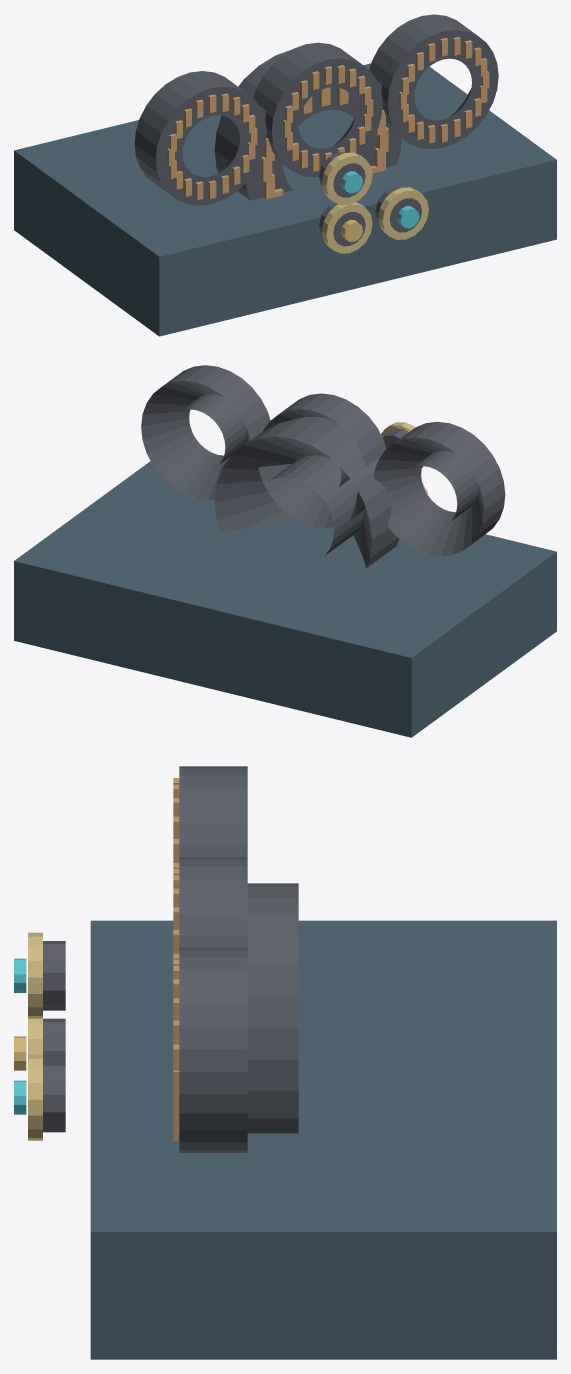
Rendered from 18_L82_CommonModeChokeModule.glb.
3 renders of one model, top to bottom at view 1: azimuth 30°, elevation 25°; view 2: azimuth 150°, elevation 25°; view 3: azimuth 270°, elevation 25°, orthographic. The views are drawn at different scales.
Visible parts, largest first — view 1: CommonModeChokeModule_Node_0000, CommonModeChokeModule_Node_0001, CommonModeChokeModule_Node_0043, CommonModeChokeModule_Node_0022, CommonModeChokeModule_Node_0064, CommonModeChokeModule_Node_0089, CommonModeChokeModule_Node_0092, CommonModeChokeModule_Node_0086, CommonModeChokeModule_Node_0088, CommonModeChokeModule_Node_0091, CommonModeChokeModule_Node_0085; view 2: CommonModeChokeModule_Node_0000, CommonModeChokeModule_Node_0064, CommonModeChokeModule_Node_0001, CommonModeChokeModule_Node_0043, CommonModeChokeModule_Node_0022; view 3: CommonModeChokeModule_Node_0000, CommonModeChokeModule_Node_0043, CommonModeChokeModule_Node_0064, CommonModeChokeModule_Node_0001, CommonModeChokeModule_Node_0022, CommonModeChokeModule_Node_0088, CommonModeChokeModule_Node_0091, CommonModeChokeModule_Node_0089, CommonModeChokeModule_Node_0092, CommonModeChokeModule_Node_0085.
Boxes of the visible parts, left/top/right/bottom form: CommonModeChokeModule_Node_0000: left=14, top=63, right=556, bottom=336; CommonModeChokeModule_Node_0001: left=134, top=71, right=266, bottom=205; CommonModeChokeModule_Node_0043: left=369, top=14, right=498, bottom=148; CommonModeChokeModule_Node_0022: left=253, top=42, right=382, bottom=177; CommonModeChokeModule_Node_0064: left=214, top=49, right=401, bottom=200; CommonModeChokeModule_Node_0089: left=378, top=187, right=428, bottom=239; CommonModeChokeModule_Node_0092: left=321, top=152, right=372, bottom=204; CommonModeChokeModule_Node_0086: left=321, top=202, right=372, bottom=253; CommonModeChokeModule_Node_0088: left=375, top=187, right=421, bottom=232; CommonModeChokeModule_Node_0091: left=319, top=152, right=365, bottom=197; CommonModeChokeModule_Node_0085: left=319, top=202, right=365, bottom=246; CommonModeChokeModule_Node_0000: left=14, top=461, right=556, bottom=737; CommonModeChokeModule_Node_0064: left=214, top=417, right=398, bottom=567; CommonModeChokeModule_Node_0001: left=373, top=421, right=505, bottom=556; CommonModeChokeModule_Node_0043: left=141, top=365, right=270, bottom=499; CommonModeChokeModule_Node_0022: left=258, top=393, right=386, bottom=528; CommonModeChokeModule_Node_0000: left=90, top=920, right=556, bottom=1359; CommonModeChokeModule_Node_0043: left=179, top=947, right=247, bottom=1152; CommonModeChokeModule_Node_0064: left=247, top=883, right=298, bottom=1133; CommonModeChokeModule_Node_0001: left=179, top=766, right=247, bottom=856; CommonModeChokeModule_Node_0022: left=179, top=857, right=247, bottom=947; CommonModeChokeModule_Node_0088: left=43, top=1062, right=65, bottom=1132; CommonModeChokeModule_Node_0091: left=43, top=941, right=65, bottom=1010; CommonModeChokeModule_Node_0089: left=28, top=1054, right=42, bottom=1140; CommonModeChokeModule_Node_0092: left=28, top=932, right=42, bottom=1018; CommonModeChokeModule_Node_0085: left=43, top=1018, right=65, bottom=1062.
Size of the model in its own units: 1.2 by 0.6024 by 0.885.
